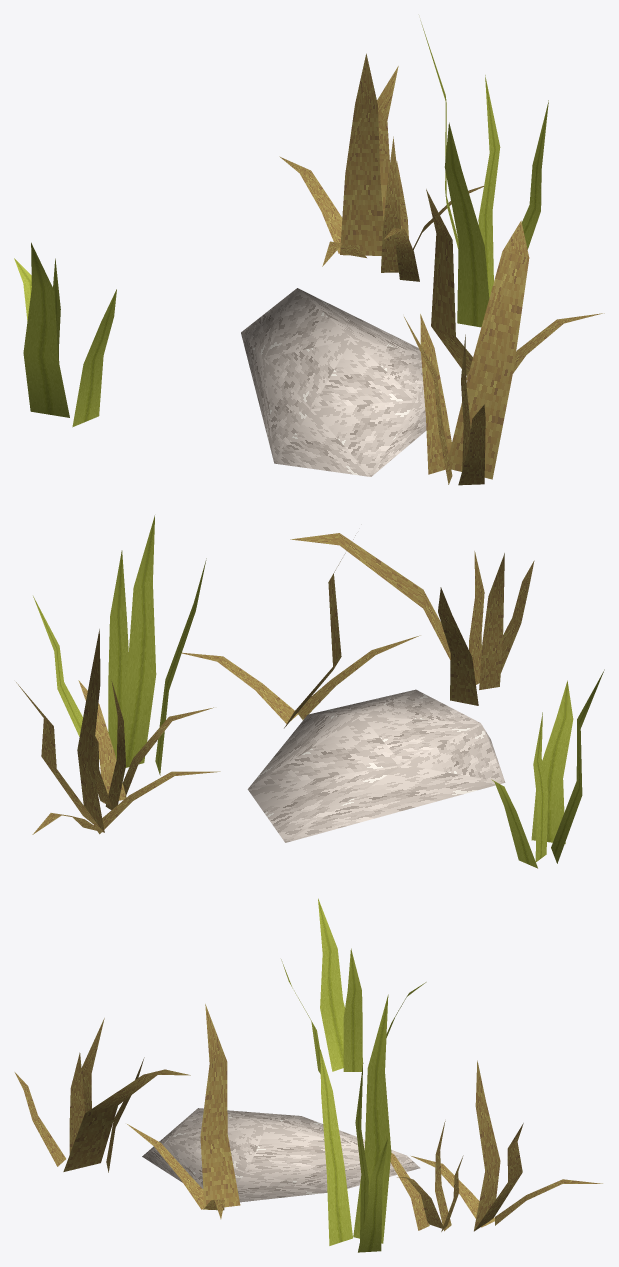
Rendered from grass6.obj.
3 views of the same model, one above another, from view 1: azimuth 30°, elevation 25°; view 2: azimuth 150°, elevation 25°; view 3: azimuth 270°, elevation 25° (orthographic). The views are drawn at different scales.
Parts seen in each view (by area): view 1: Plane.009_Plane.066, Icosphere, Plane.005_Plane.082; view 2: Icosphere, Plane.009_Plane.066, Plane.005_Plane.082; view 3: Plane.009_Plane.066, Plane.005_Plane.082, Icosphere.
Boxes of the visible parts, x1,y1,x2,y2 form: Plane.009_Plane.066: (279, 53, 604, 485); Icosphere: (241, 288, 426, 476); Plane.005_Plane.082: (14, 20, 548, 427); Icosphere: (247, 689, 505, 842); Plane.009_Plane.066: (16, 533, 534, 834); Plane.005_Plane.082: (33, 515, 604, 868); Plane.009_Plane.066: (14, 1004, 602, 1231); Plane.005_Plane.082: (281, 898, 426, 1252); Icosphere: (142, 1108, 420, 1202).
Size of the model in its own units: 3.45 by 1.78 by 3.92.
Materials: 4 (4 with a texture image).
